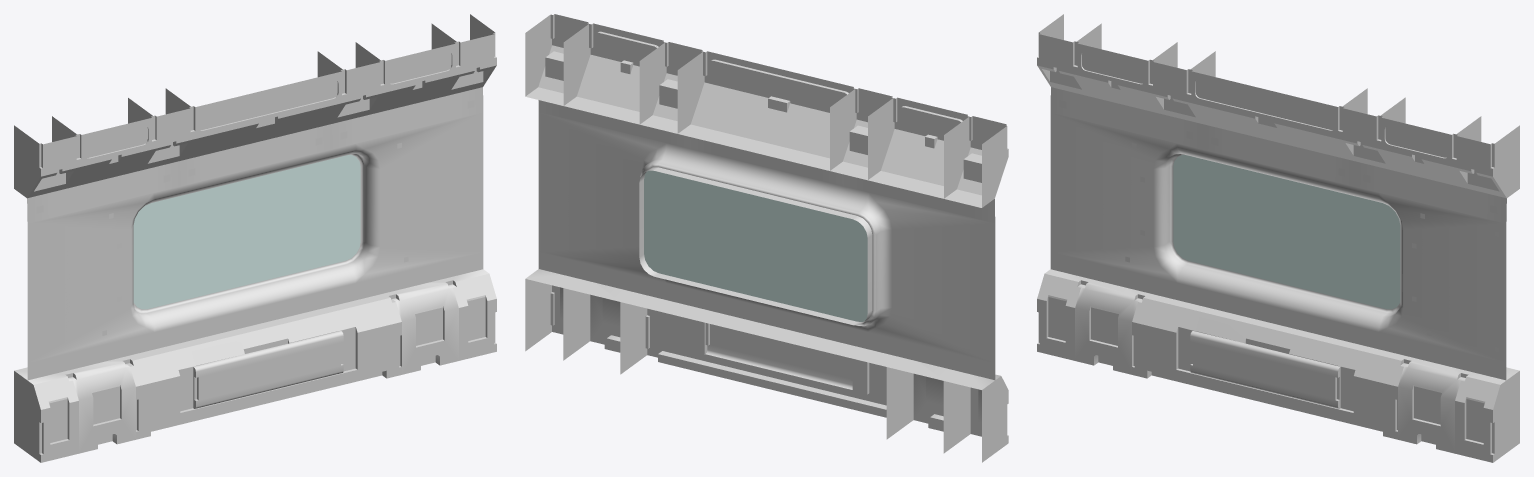
File: SM_Window_AA.fbx
3 views of the same model, side by side, from view 1: azimuth 30°, elevation 25°; view 2: azimuth 150°, elevation 25°; view 3: azimuth 330°, elevation 25° (orthographic).
Visible parts, largest first — view 1: SM_Window_AA; view 2: SM_Window_AA; view 3: SM_Window_AA.
Boxes of the visible parts, bbox=[...] form: SM_Window_AA: bbox=[14, 14, 496, 462]; SM_Window_AA: bbox=[525, 14, 1008, 462]; SM_Window_AA: bbox=[1037, 14, 1519, 462].
Size of the model in its own units: 300 by 31.59 by 200.
